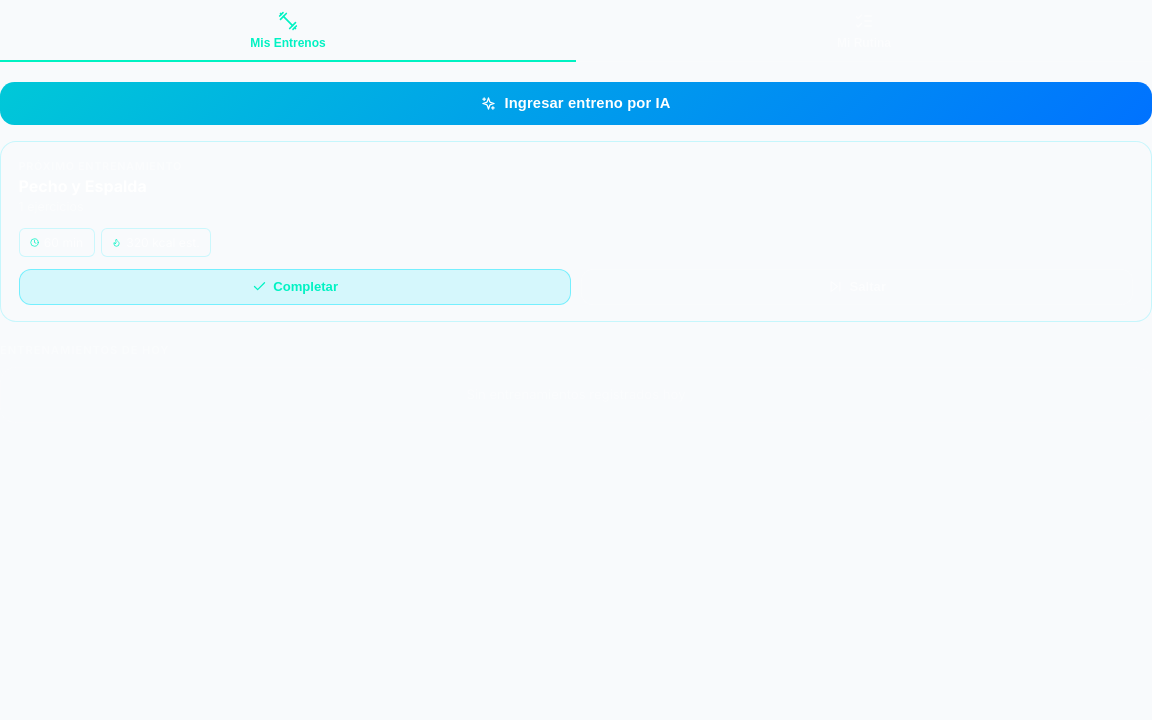
it: WorkoutModule — Mis Entrenos tab › opens log modal when Completar is clicked
Click the button with aria-label "marcar entrenamiento como completado" at (295, 287), box [19, 269, 571, 305]
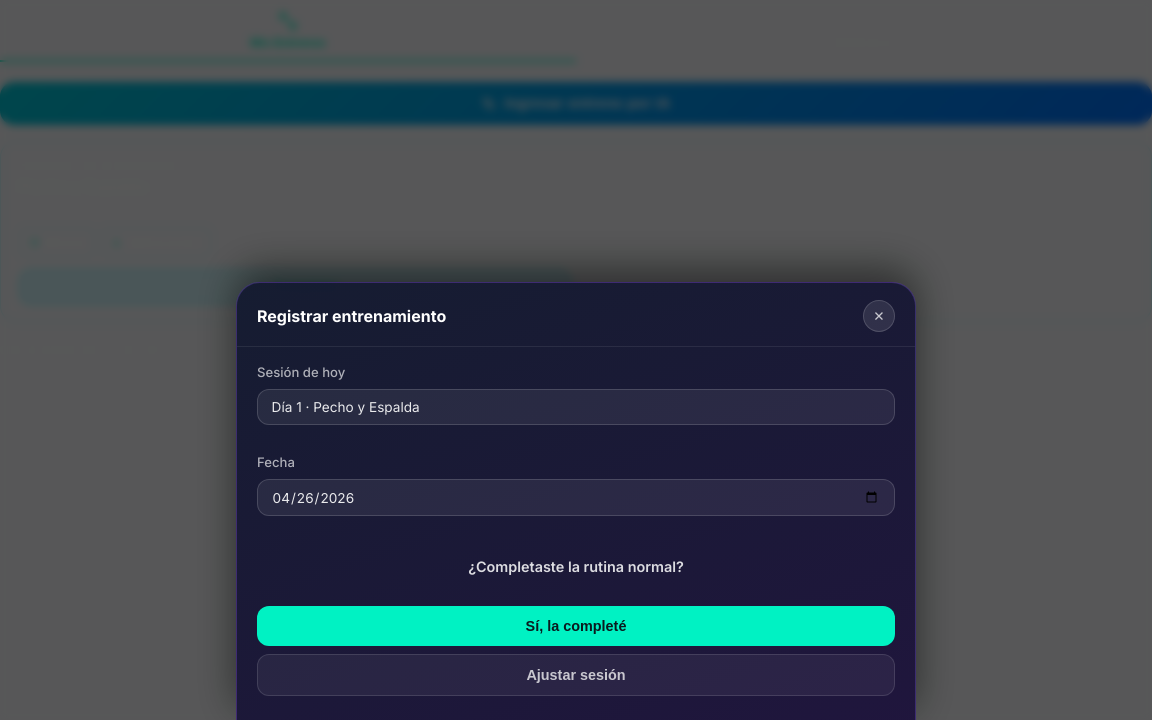
Result: the dialog "Registrar entrenamiento" is shown at [236, 282, 916, 719]
